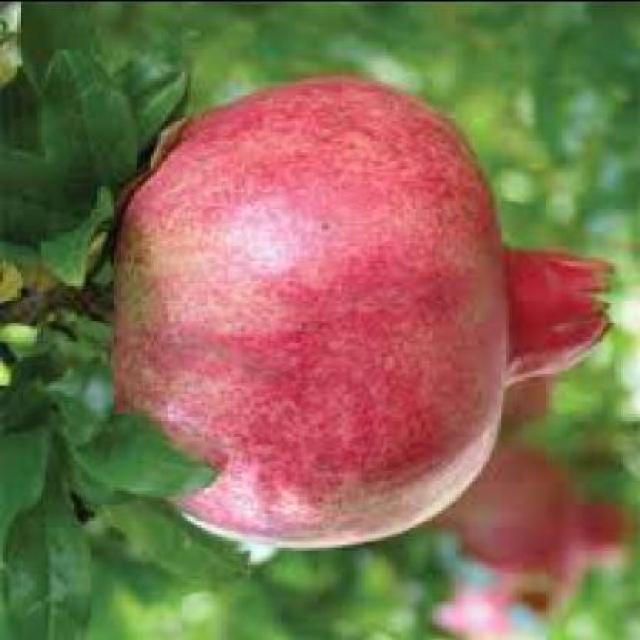BIODEGRADABLE: (116, 76, 609, 559), (441, 445, 622, 585)
